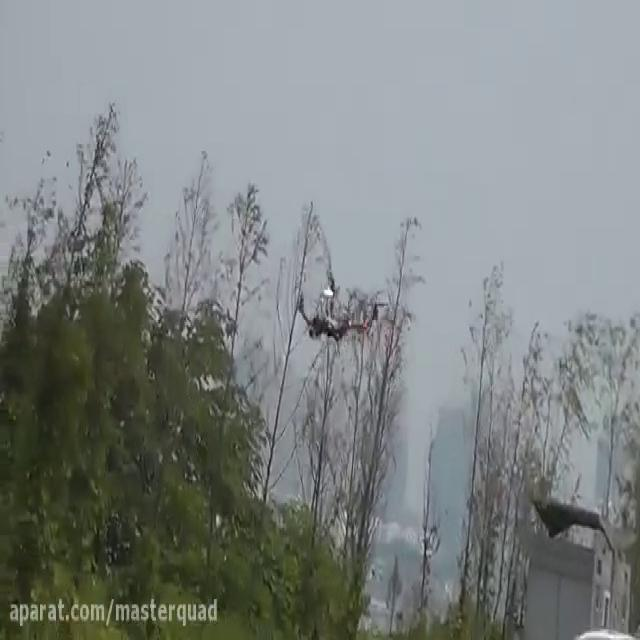drone: (296, 274, 386, 350)
